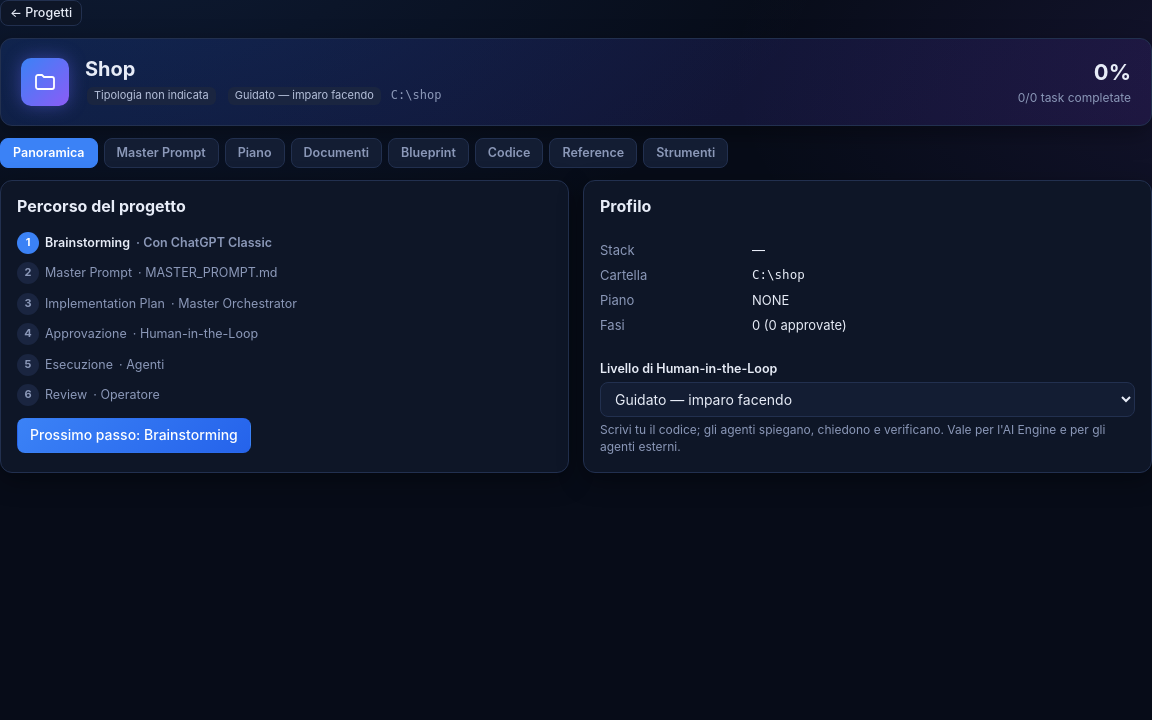
Test: Reference — deleting from the console (ADR-035 §5) › deletes a selection of images and other files in one request
This screenshot has width=1152, height=720.
Step 1. Click the tab "Reference" → (593, 153), box [549,138,637,168]
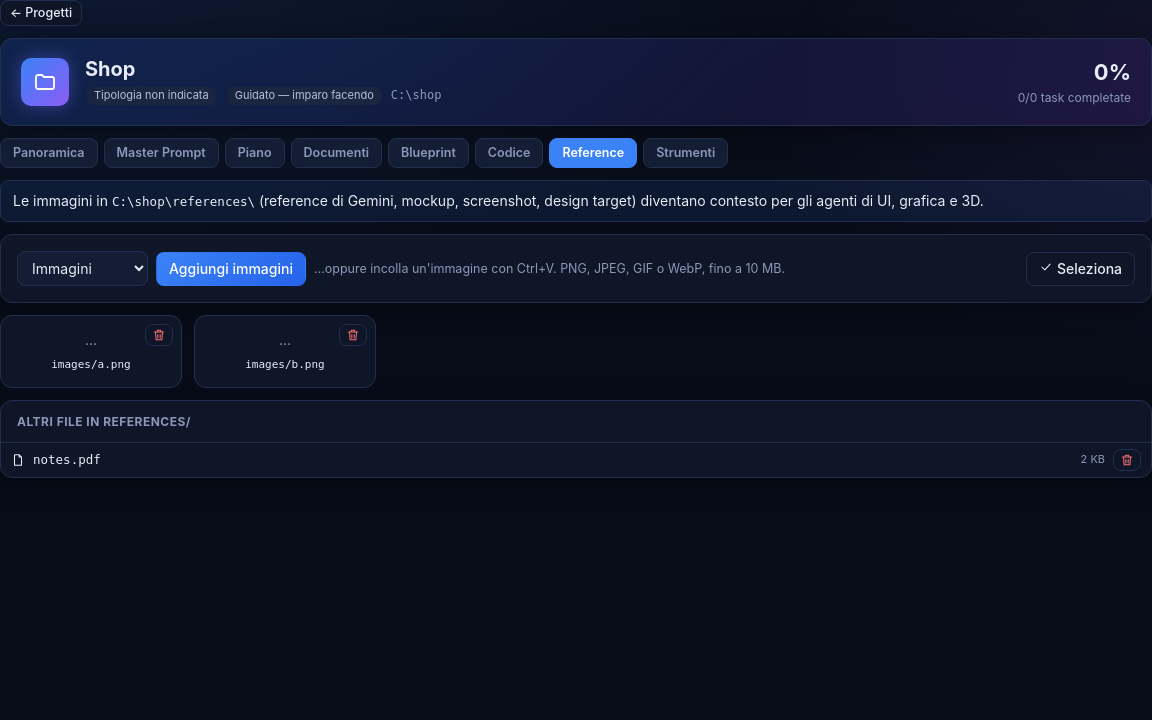
Now the text "notes.pdf" is shown, box [33,451,101,469]
Step 2. Click the button "Seleziona" → (1081, 269), box [1026,252,1135,286]
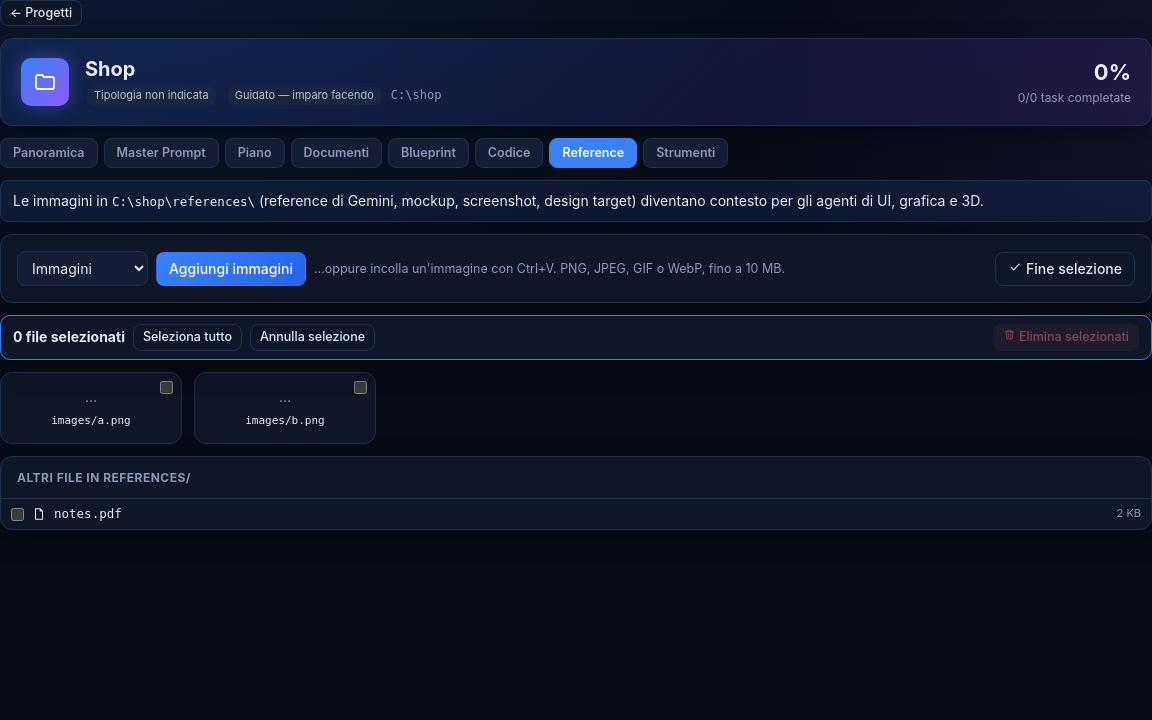
Step 3. Click the checkbox named "Seleziona images/a.png" → (166, 387), box [160,381,173,394]
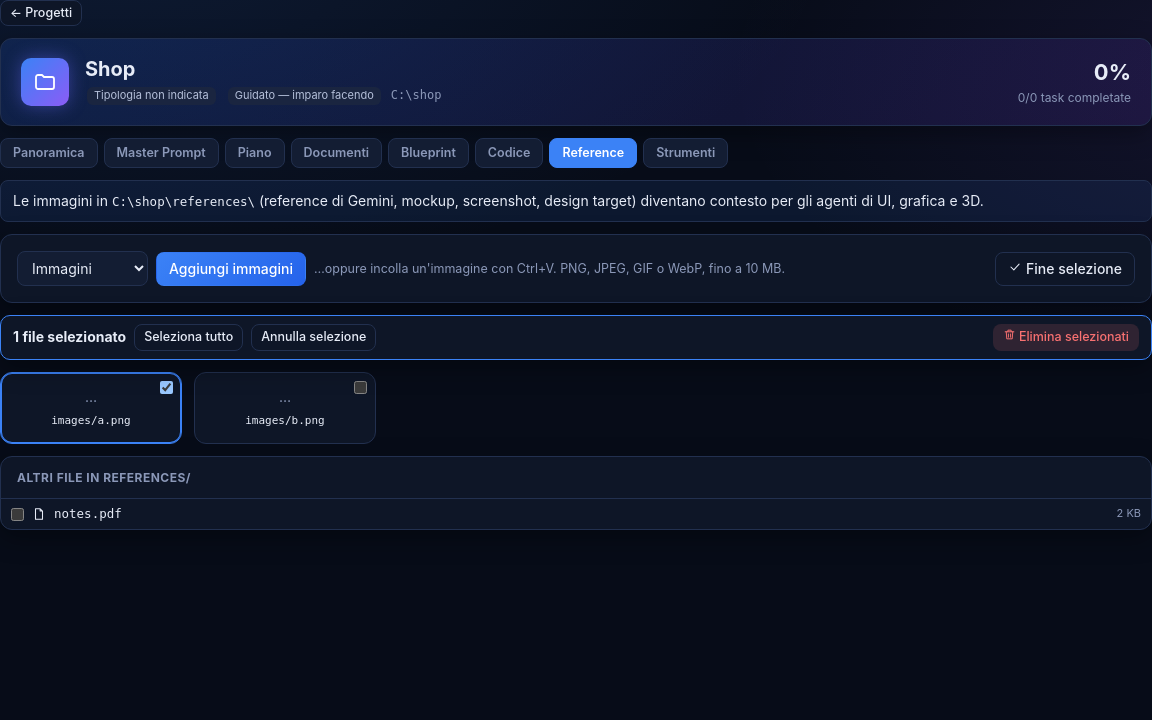
Step 4. Click the checkbox named "Seleziona notes.pdf" → (18, 514), box [11,508,24,521]
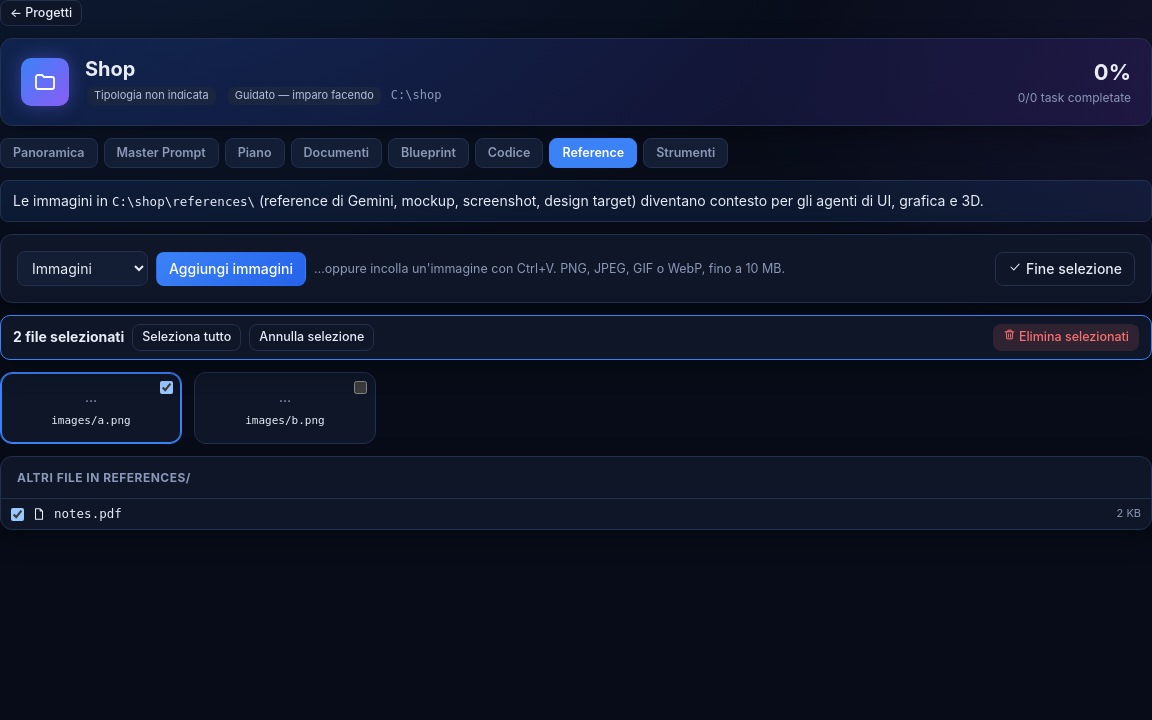
Step 5. Click the button "Elimina selezionati" → (1066, 338), box [992,324,1139,351]
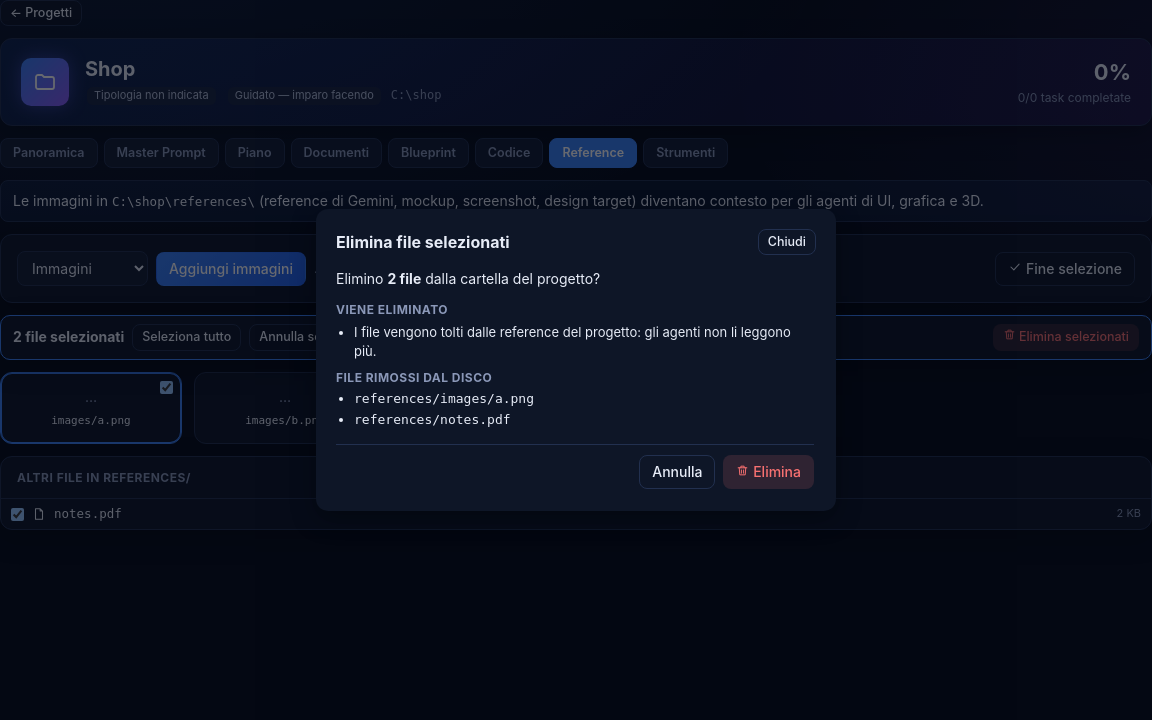
Step 6. Click the button "Elimina" → (769, 472), box [723,455,814,489]
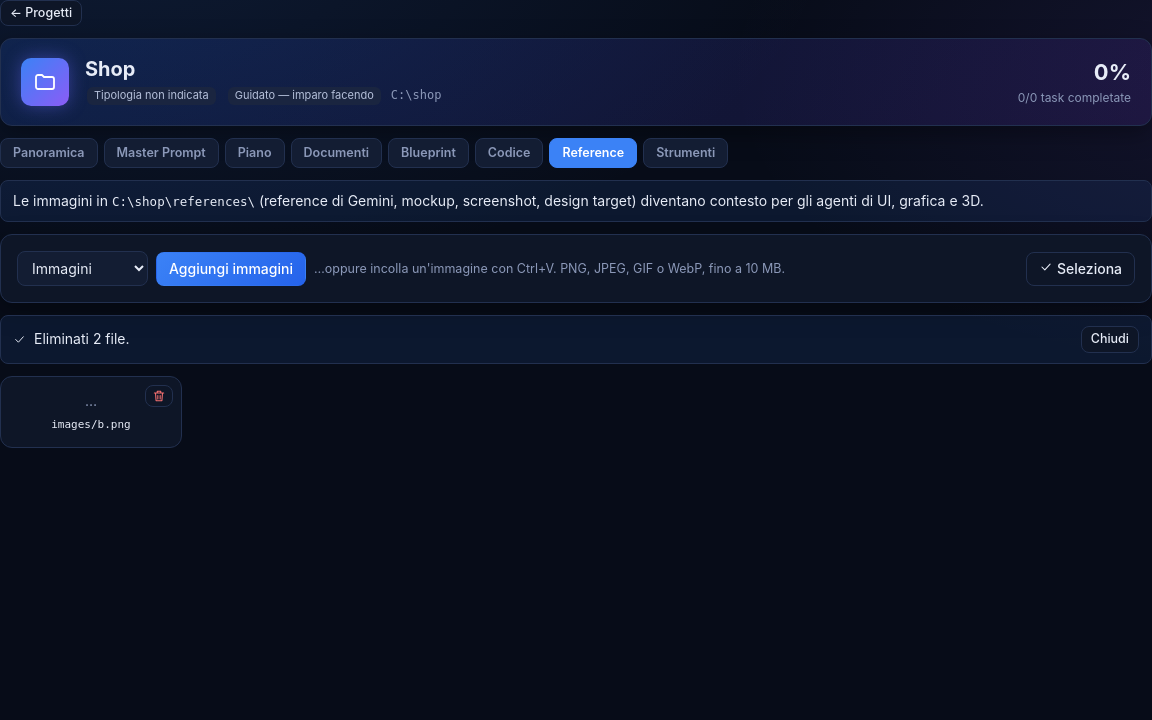
Now the text "Eliminati 2 file." is shown, box [34,330,130,347]
Now the text "notes.pdf" is gone
